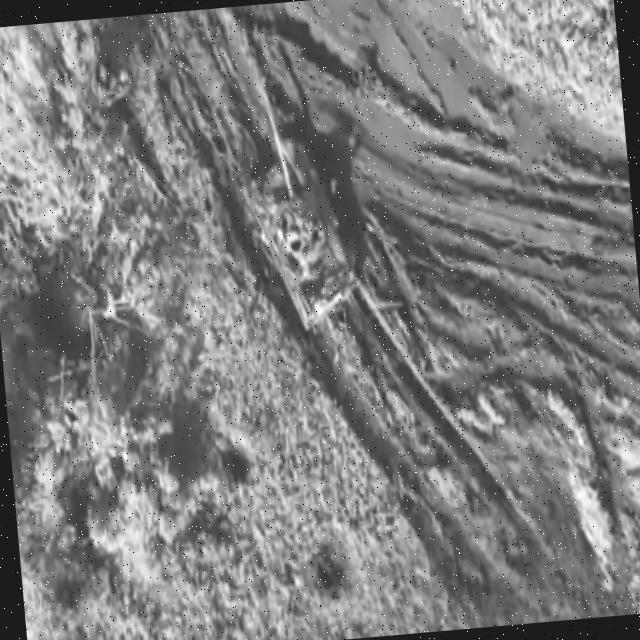MBT: (236, 81, 366, 340)
